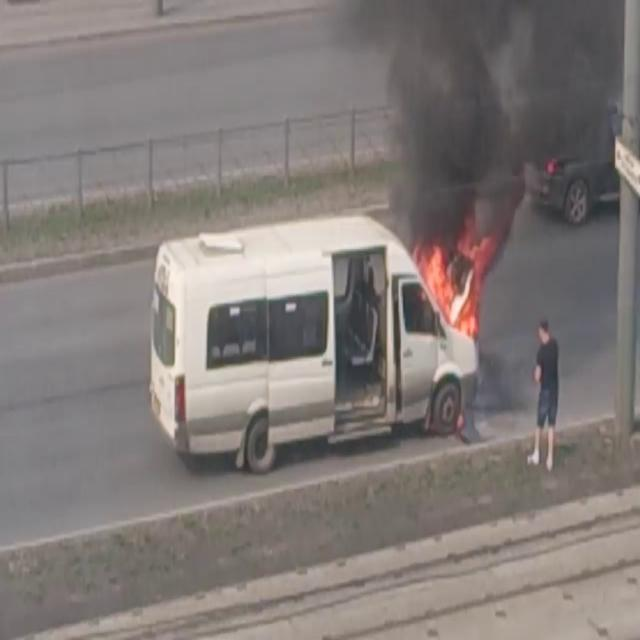Fire: (415, 228, 493, 338)
Smoke: (360, 0, 556, 238)
